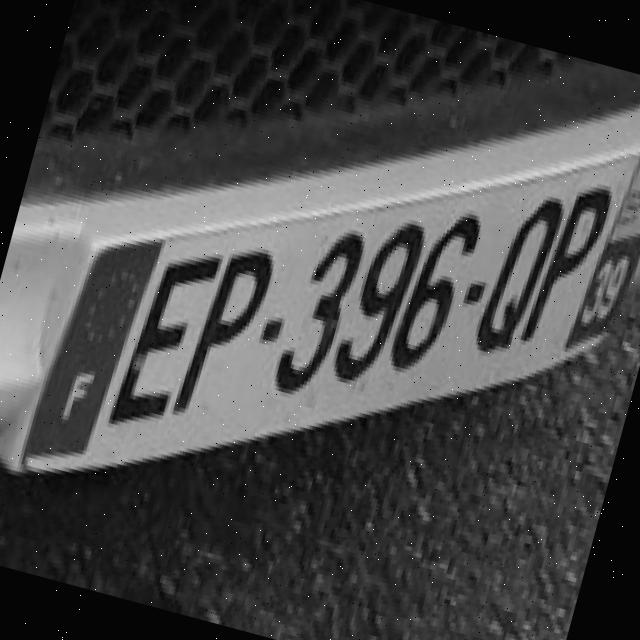EU: (22, 154, 640, 468)
France: (21, 247, 162, 461)
